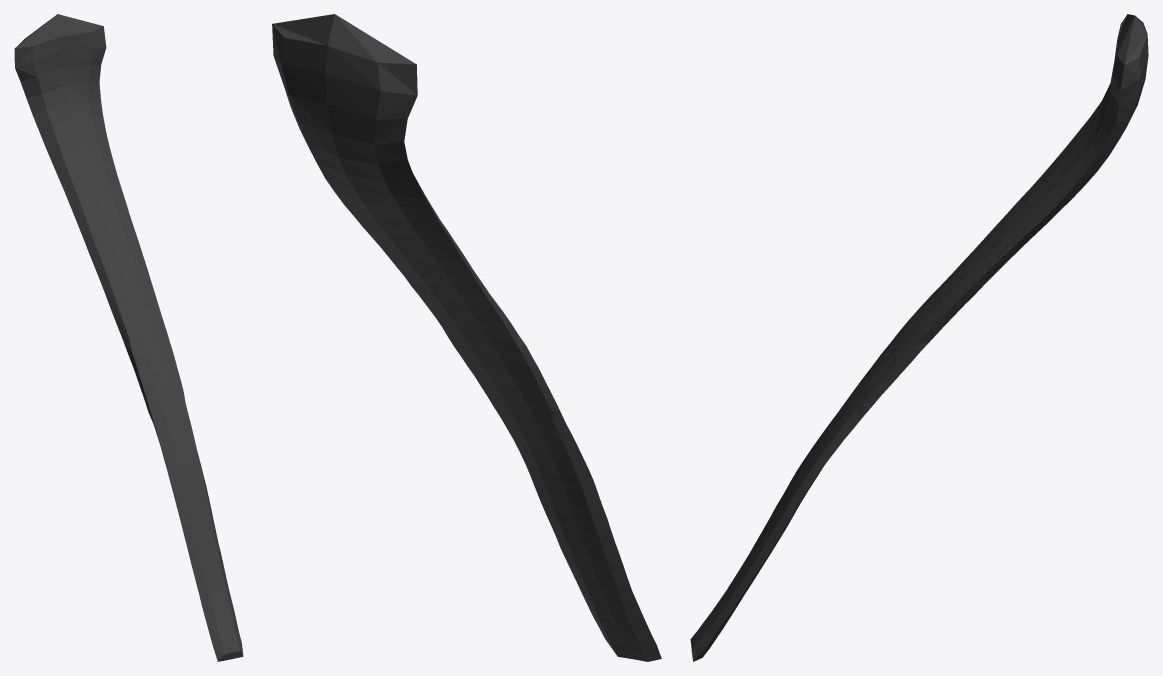
Rendered from Straight_ligament.glb.
3 renders of one model, left to right at view 1: azimuth 30°, elevation 25°; view 2: azimuth 150°, elevation 25°; view 3: azimuth 270°, elevation 25°, orthographic. The views are drawn at different scales.
Visible parts, largest first — view 1: Straight_ligament; view 2: Straight_ligament; view 3: Straight_ligament.
Boxes of the visible parts, x1,y1,x2,y2 form: Straight_ligament: (14,14,243,661); Straight_ligament: (272,14,661,661); Straight_ligament: (690,14,1148,661).
Size of the model in its own units: 3.96 by 21.92 by 14.19.
1 material, 1 textured.
